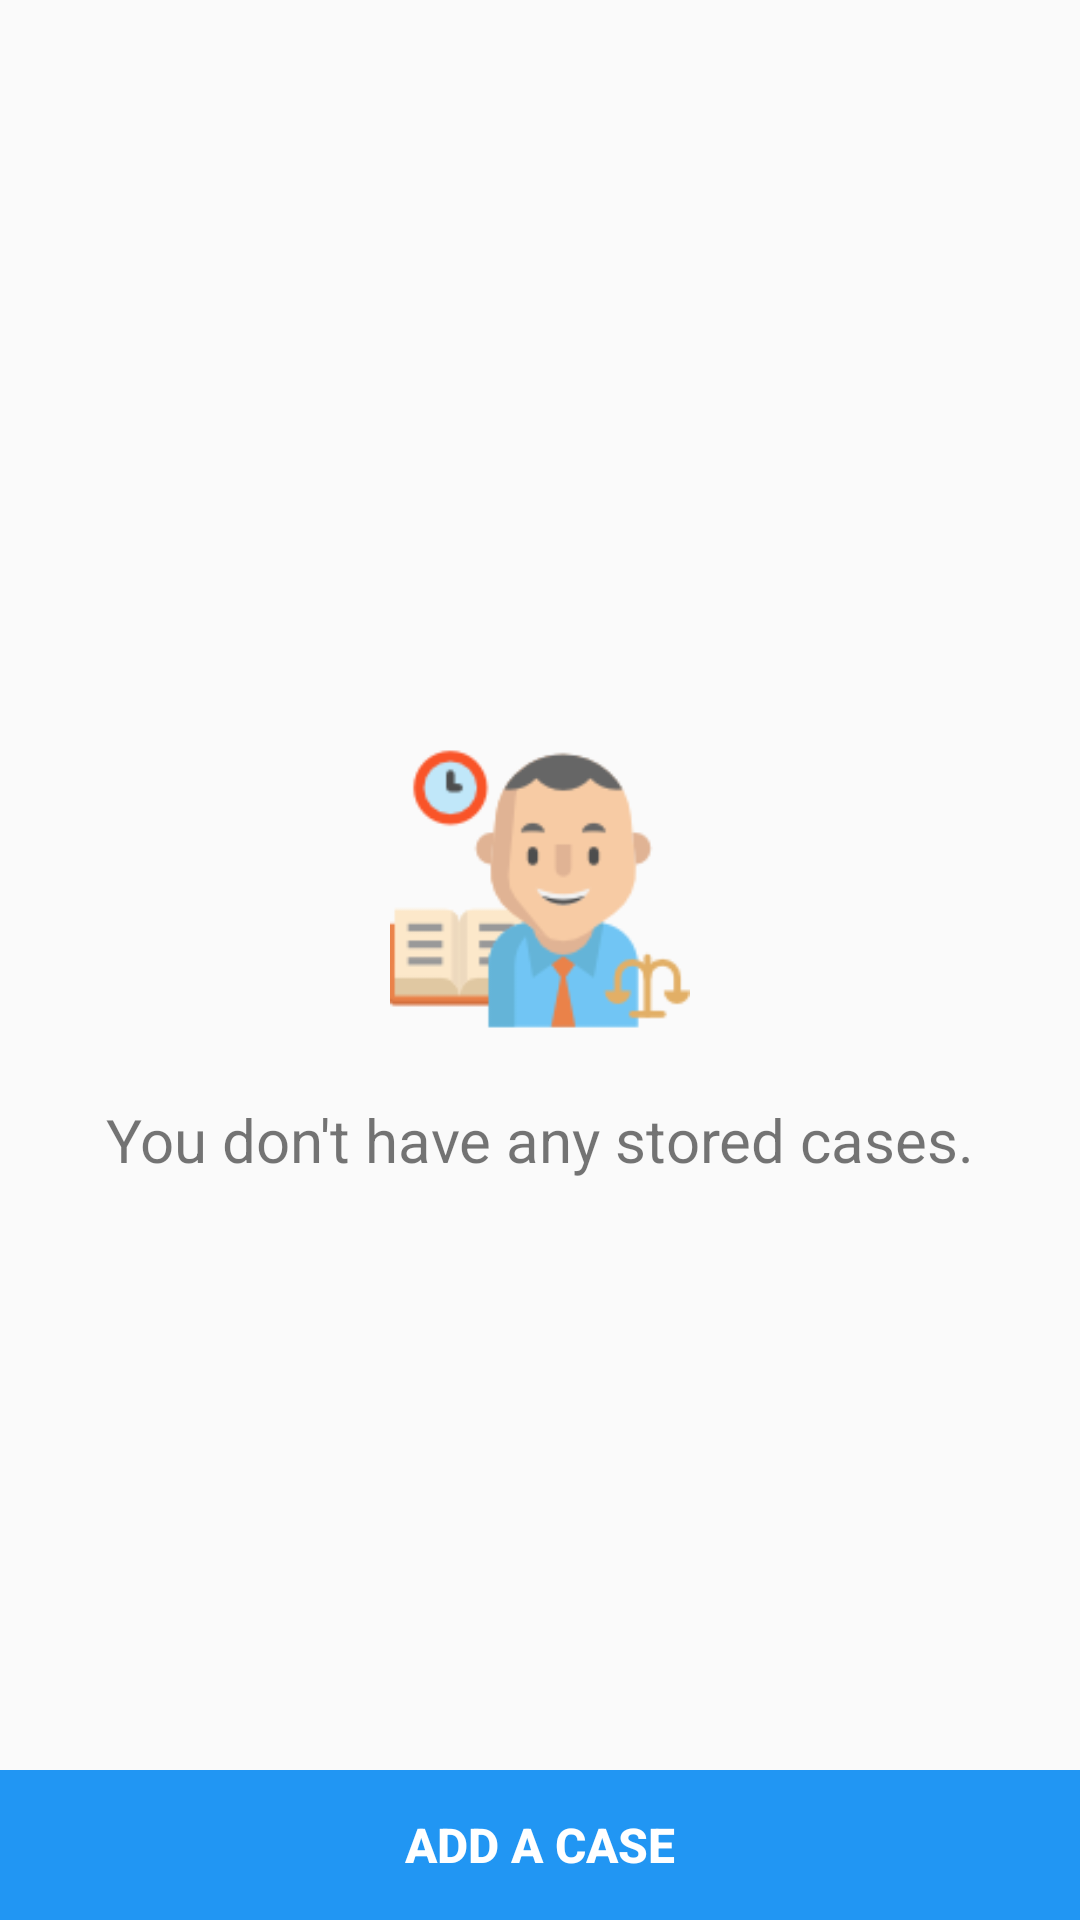

Screen size 1080x1920. Icon name, then its center in pixels as (x=x, y=y):
lawyer: (x=540, y=889)
